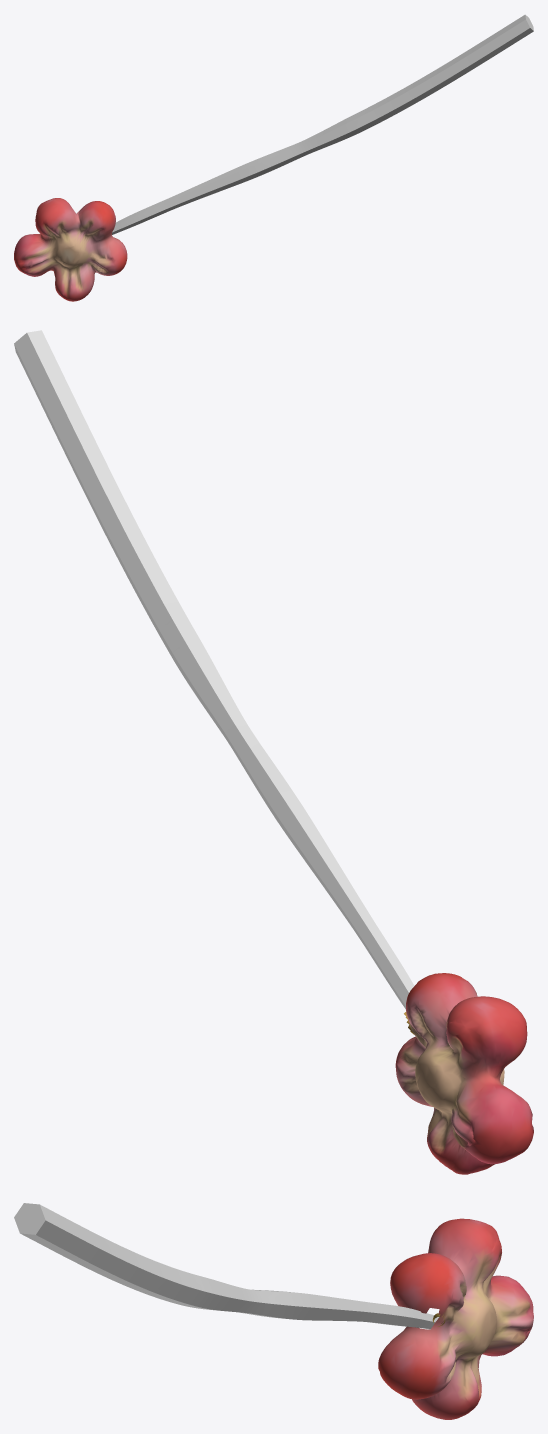
3 renders of one model, top to bottom at view 1: azimuth 30°, elevation 25°; view 2: azimuth 150°, elevation 25°; view 3: azimuth 270°, elevation 25°, orthographic. The views are drawn at different scales.
Visible parts, largest first — view 1: LOD 1_4441588532611241159_923a94d9283586042bf341a57634d57c; view 2: LOD 1_4441588532611241159_923a94d9283586042bf341a57634d57c; view 3: LOD 1_4441588532611241159_923a94d9283586042bf341a57634d57c.
Boxes of the visible parts, x1,y1,x2,y2 form: LOD 1_4441588532611241159_923a94d9283586042bf341a57634d57c: [14, 14, 533, 301]; LOD 1_4441588532611241159_923a94d9283586042bf341a57634d57c: [14, 330, 533, 1174]; LOD 1_4441588532611241159_923a94d9283586042bf341a57634d57c: [14, 1203, 533, 1419].
Size of the model in its own units: 1.5 by 1.01 by 0.9113.
